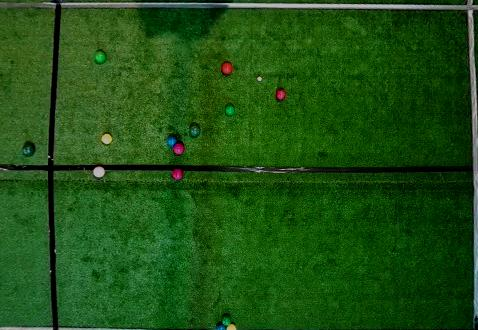blue: (167, 136, 177, 147), (215, 324, 226, 329)
green: (94, 51, 107, 64), (190, 124, 201, 138), (22, 145, 34, 157), (225, 105, 235, 116), (222, 316, 231, 326)
red: (221, 62, 233, 75), (172, 168, 184, 180), (173, 143, 185, 155), (93, 166, 105, 178), (276, 89, 286, 101)
vline: (1, 0, 62, 329), (464, 0, 477, 330)
white: (257, 77, 262, 81)
yellow: (101, 133, 113, 145), (226, 324, 237, 329)
